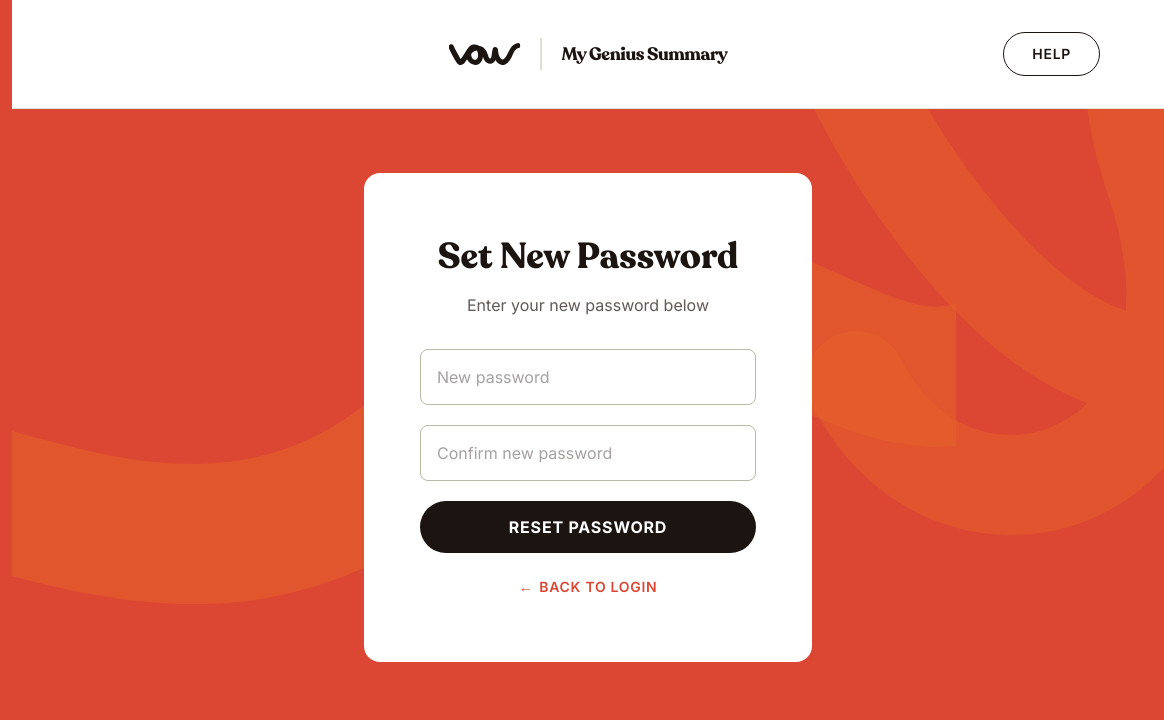
Scenario: PasswordResetPage › validates matching passwords
Step 1. Type "password123" into the password field labelled "New password" → coordinates (588, 377), box [420,349,756,405]
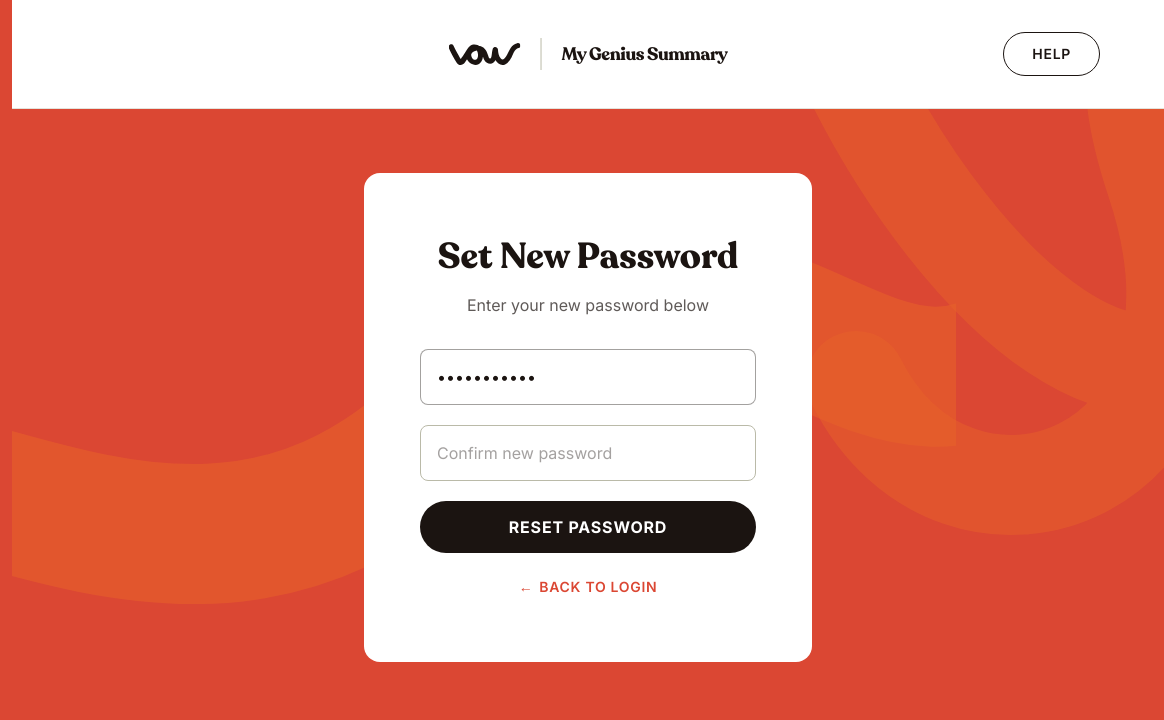
Step 2. Type "different123" into the password field labelled "Confirm new password" → coordinates (588, 453), box [420,425,756,481]
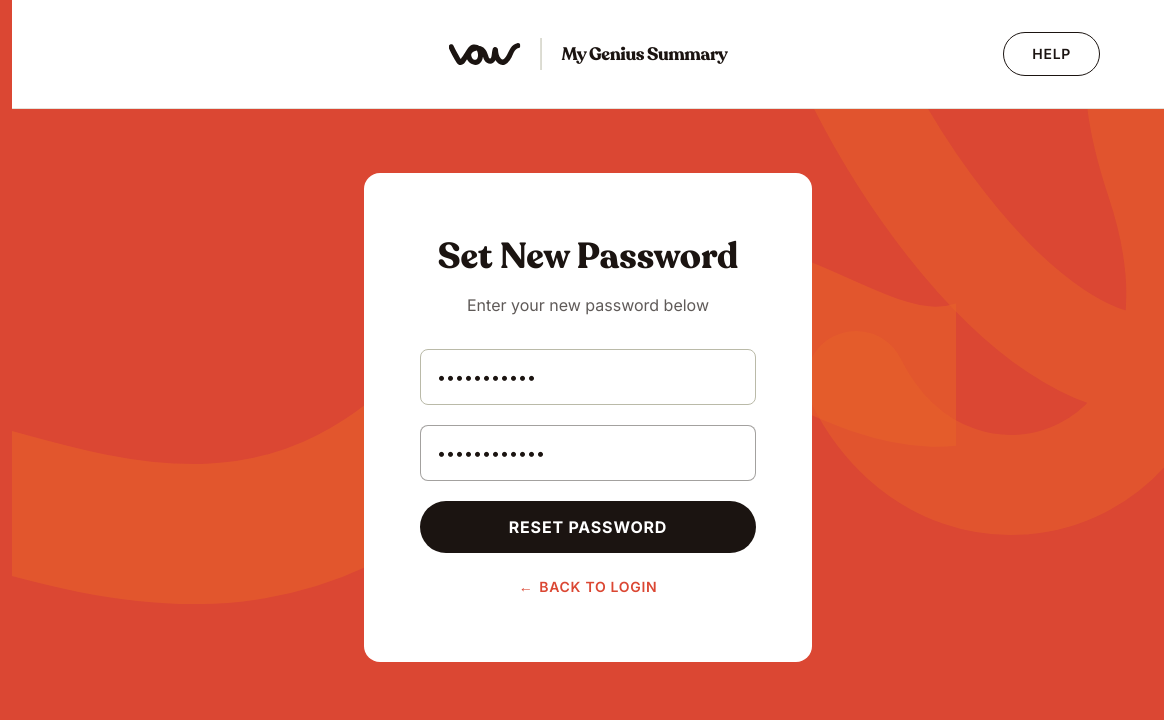
Step 3. Click the button "Reset Password" → coordinates (588, 527), box [420,501,756,553]
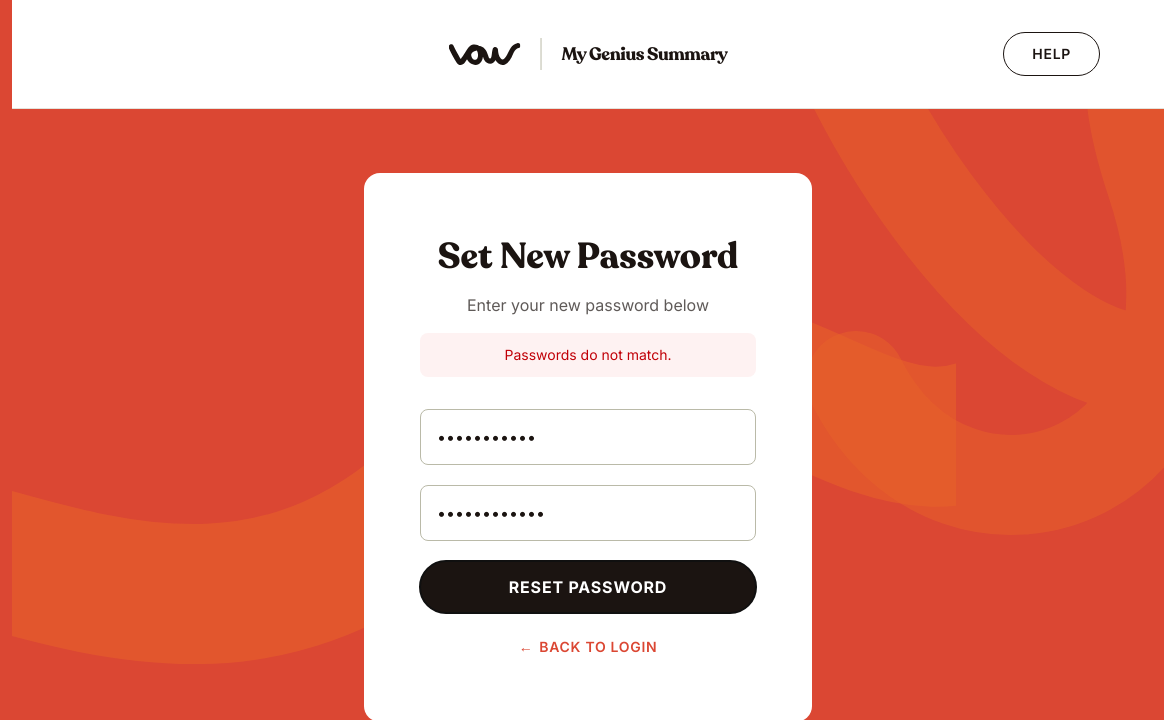
Expected: the text "Passwords do not match." is shown, [420,333,756,377]
